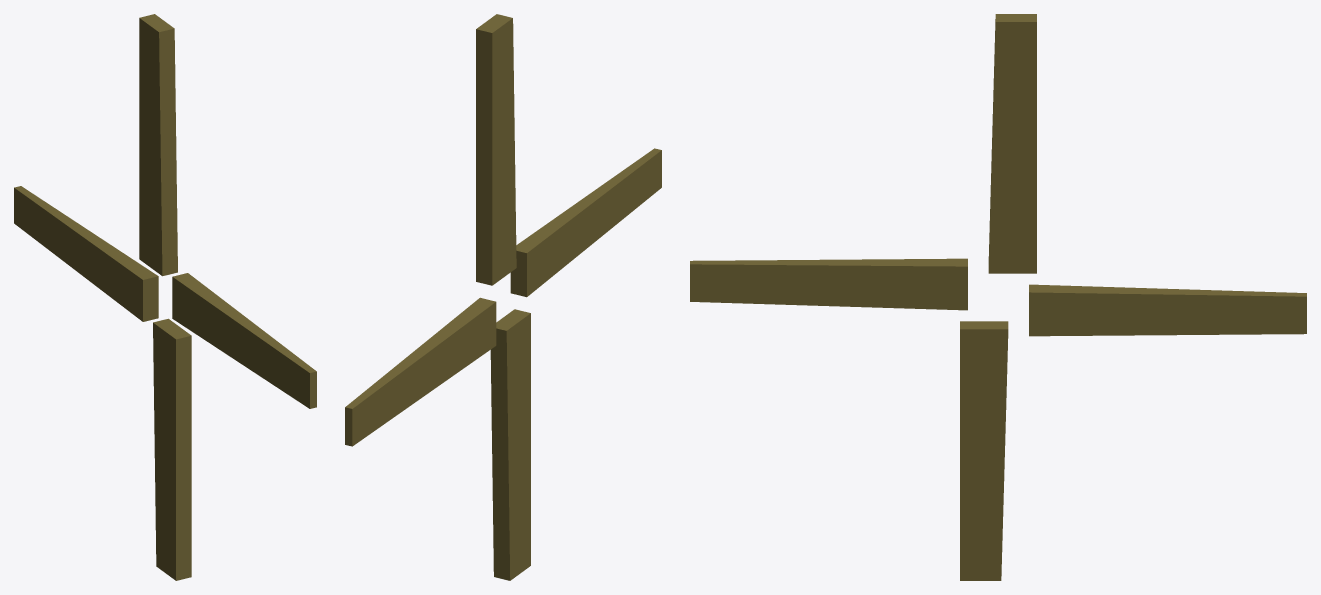
File: tail_rotor.glb
The picture shows the model from 3 angles, left to right: view 1: azimuth 30°, elevation 25°; view 2: azimuth 150°, elevation 25°; view 3: azimuth 270°, elevation 25°; orthographic projection. The views are drawn at different scales.
Parts seen in each view (by area): view 1: Maxis-3d2-mesh-76-rot; view 2: Maxis-3d2-mesh-76-rot; view 3: Maxis-3d2-mesh-76-rot.
Part boxes in pixels (bbox=[...]): Maxis-3d2-mesh-76-rot: bbox=[14, 14, 316, 580]; Maxis-3d2-mesh-76-rot: bbox=[345, 14, 661, 580]; Maxis-3d2-mesh-76-rot: bbox=[690, 14, 1306, 580].
Size of the model in its own units: 0.0418 by 1.37 by 1.37.
